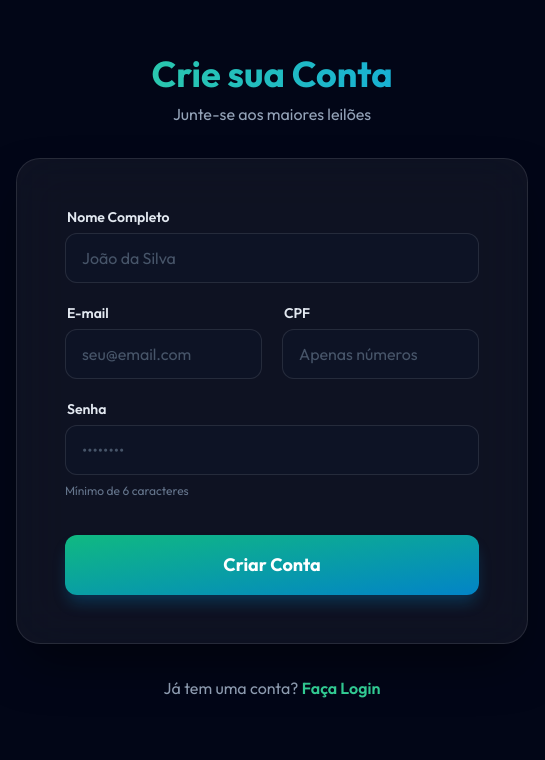
Test: RegisterView › shows the backend conflict message (e.g. duplicate cpf) and does not redirect
Type "Ana Silva" into the field with id "name". click: (272,258)
box: [65, 233, 479, 283]
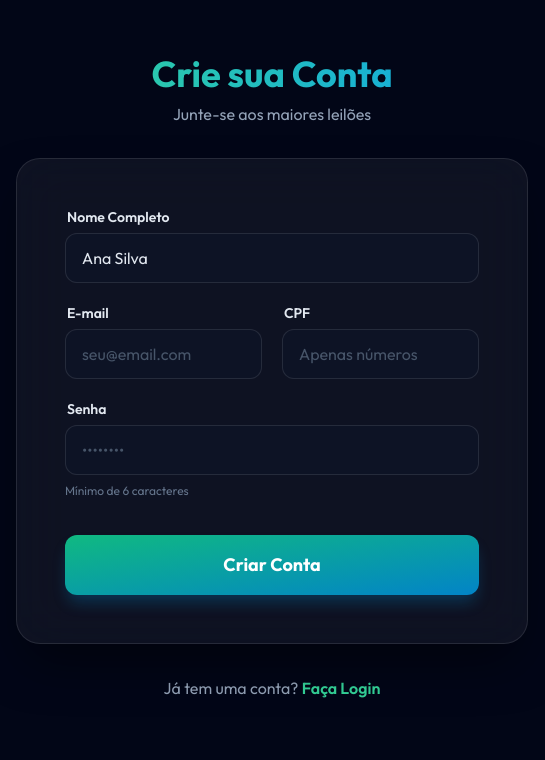
Type "ana@test.com" into the field with id "email". click: (164,354)
box: [65, 329, 262, 379]
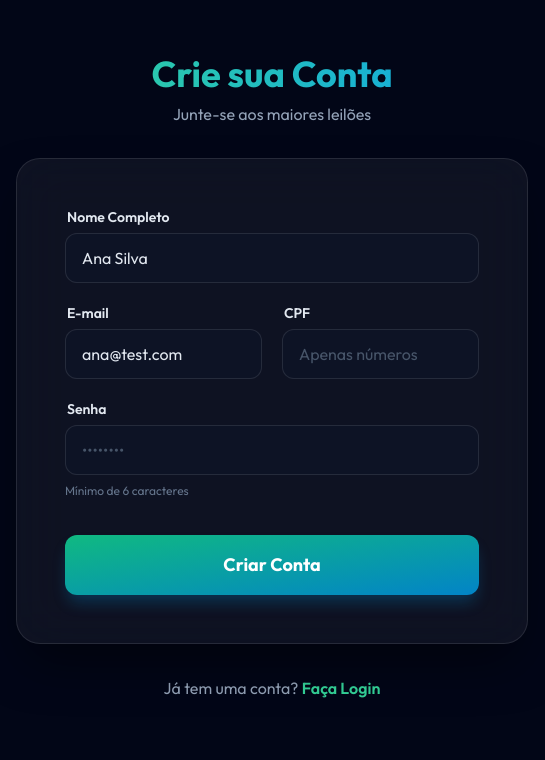
Type "12345678901" into the field with id "cpf". click: (380,354)
box: [282, 329, 479, 379]
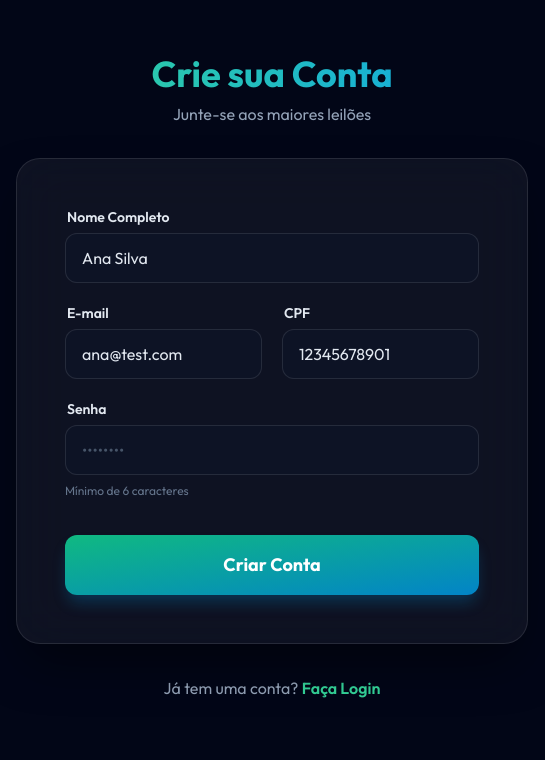
Type "Pass@123" into the password field labelled "Senha". click: (272,450)
box: [65, 425, 479, 475]
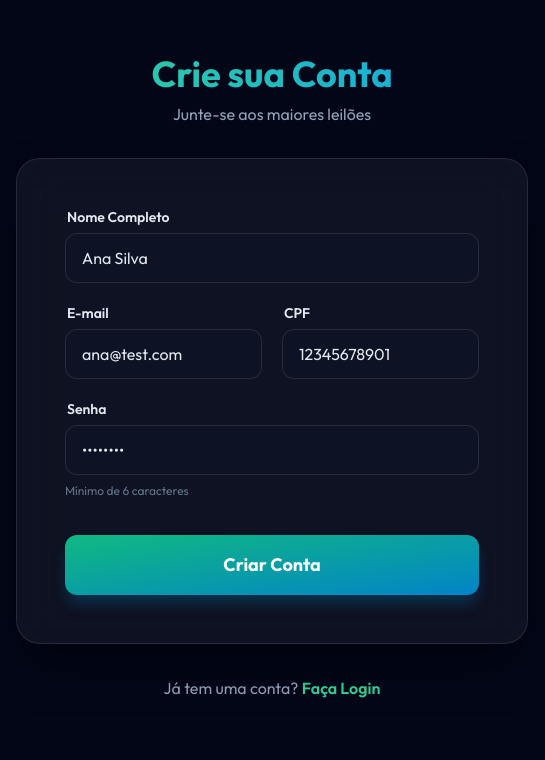
Submit the form, box [65, 207, 479, 595]
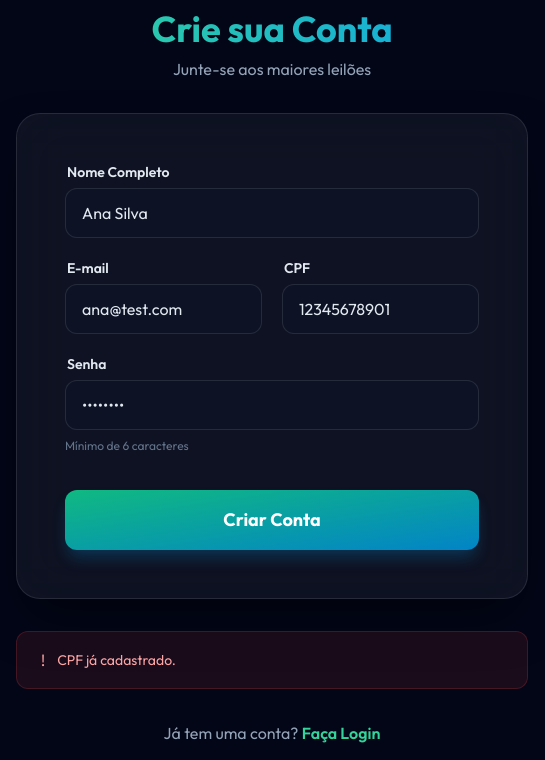
Expected: the text "CPF já cadastrado." is shown, [57, 650, 176, 670]
